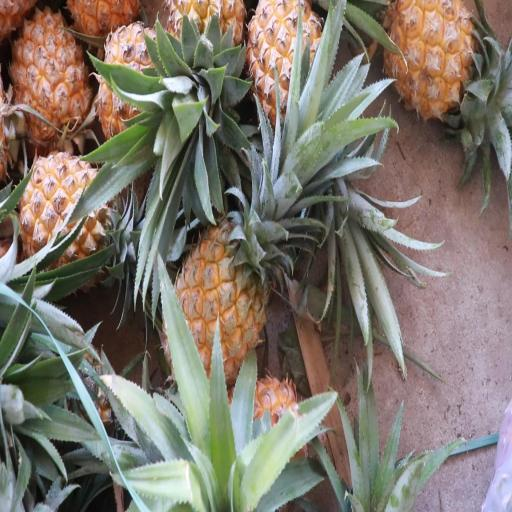Pineapple - v8 v1: (158, 198, 293, 392), (16, 146, 132, 304), (95, 16, 193, 178), (244, 0, 338, 155), (8, 14, 94, 171), (378, 0, 484, 126), (160, 0, 252, 137)
